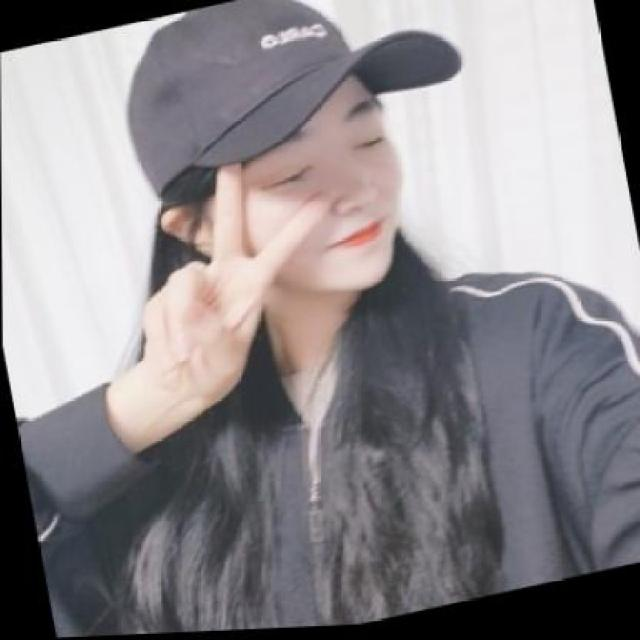hat: (103, 0, 480, 212)
